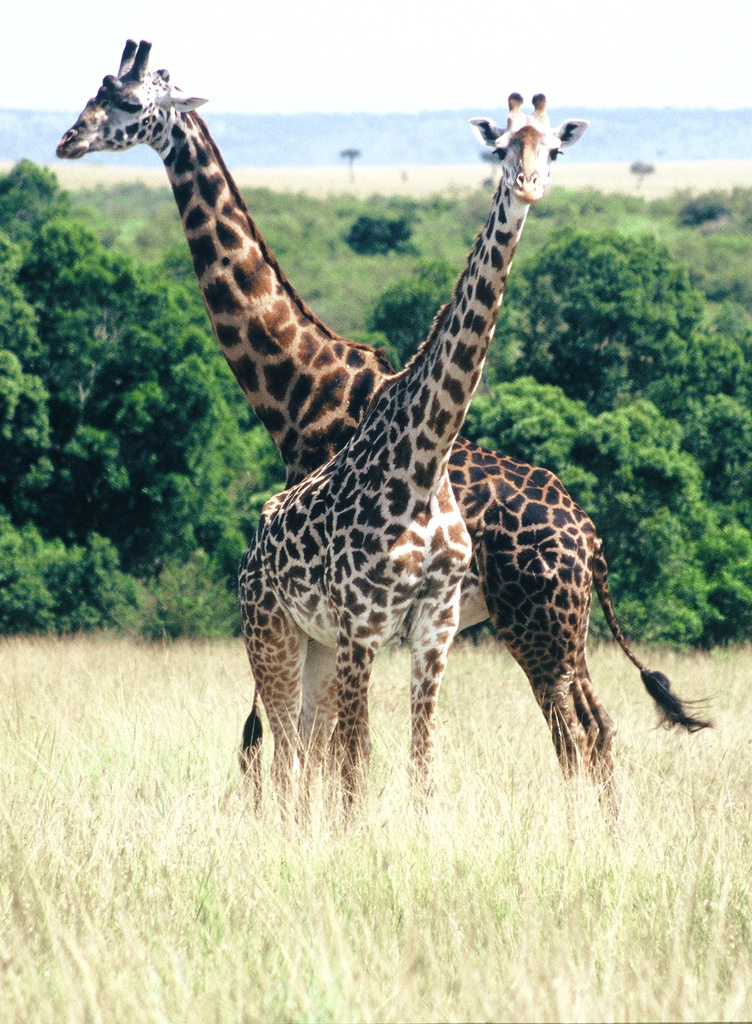giraffe: (41, 51, 597, 749), (222, 93, 640, 818)
